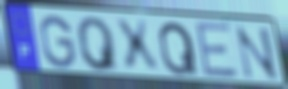E: (193, 20, 241, 81)
G: (39, 14, 78, 70)
N: (234, 26, 281, 83)
Q: (75, 16, 122, 73), (157, 21, 201, 77)
X: (112, 18, 163, 74)
